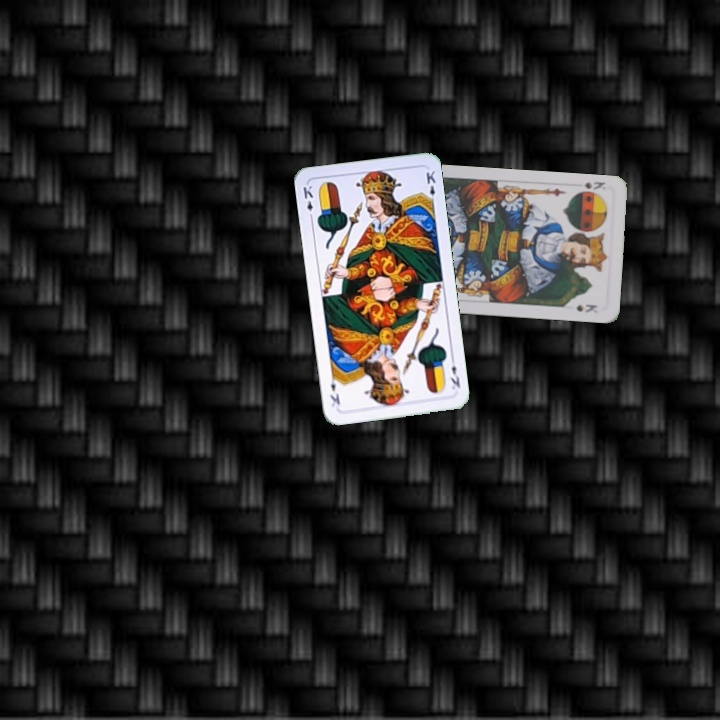EK: (299, 181, 316, 222), (446, 354, 463, 392)
SK: (581, 177, 608, 193)
